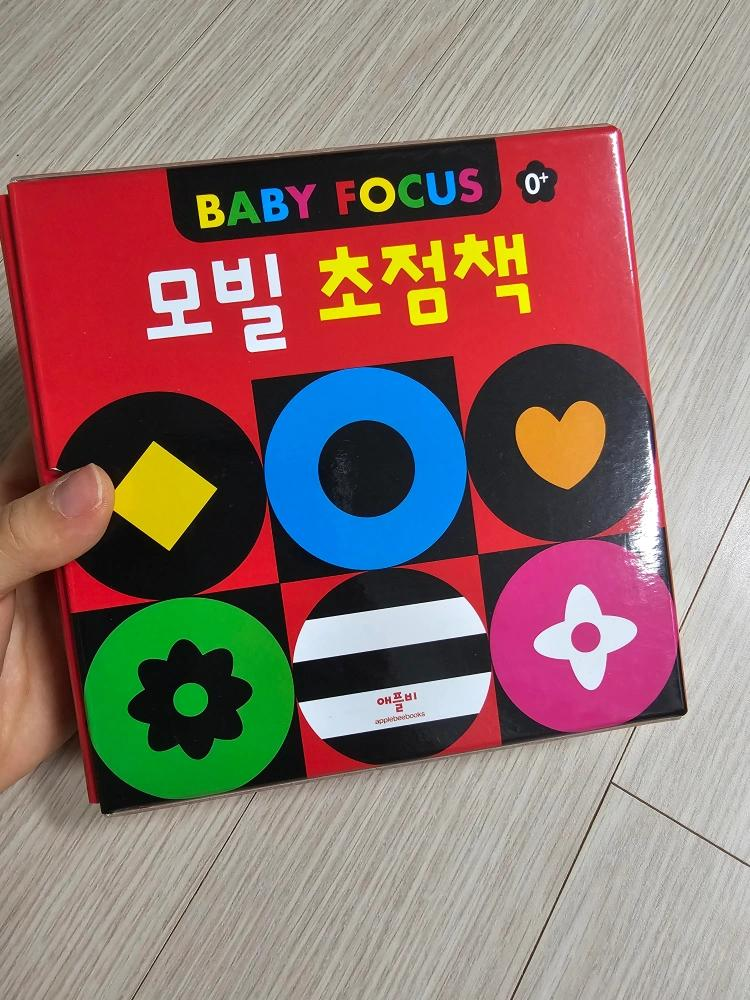book: (1, 123, 688, 816)
